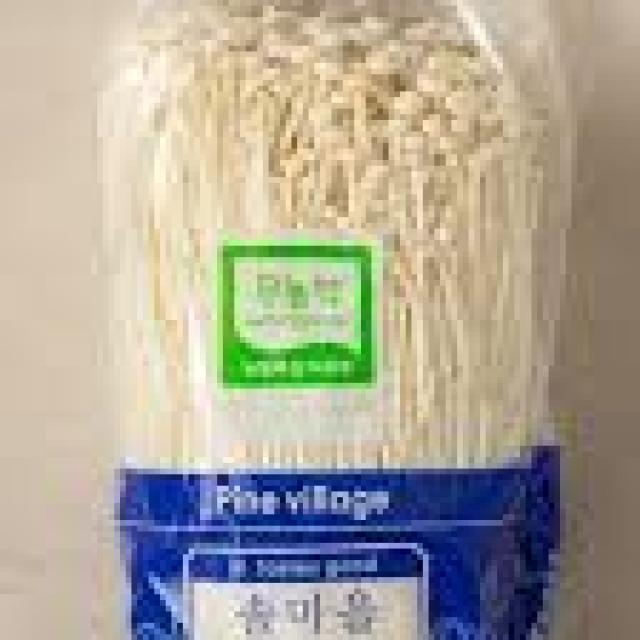mushroom: (114, 0, 560, 640)
